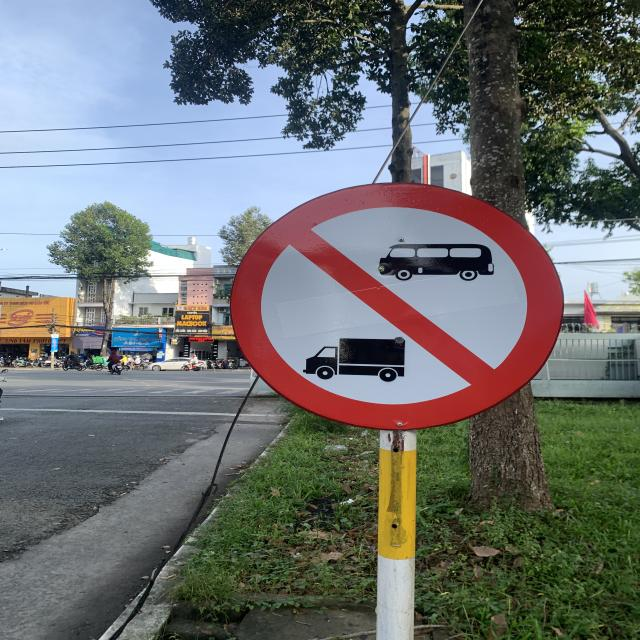Cam_XeTai_XeKhach: (229, 181, 558, 430)
